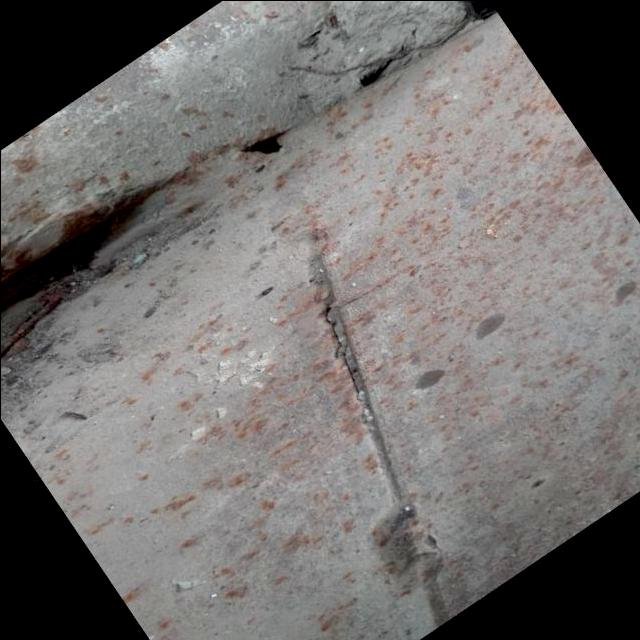defect: (321, 298, 371, 405)
